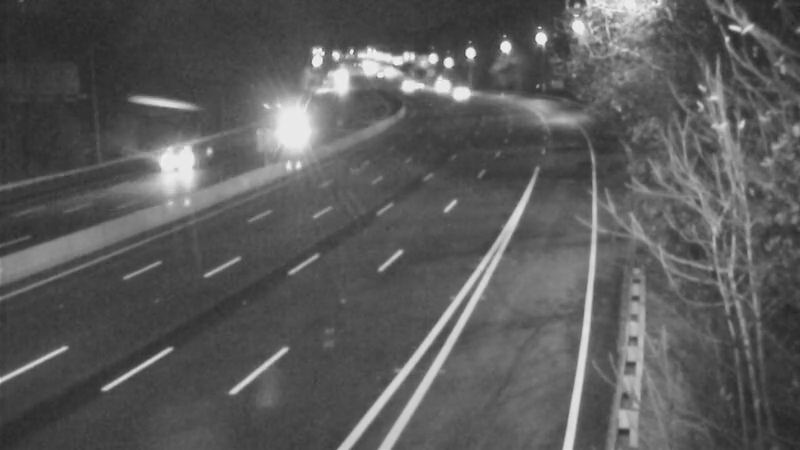vehicle: (127, 111, 207, 191), (374, 62, 424, 112), (412, 59, 462, 109), (439, 68, 489, 118), (264, 104, 314, 154)
